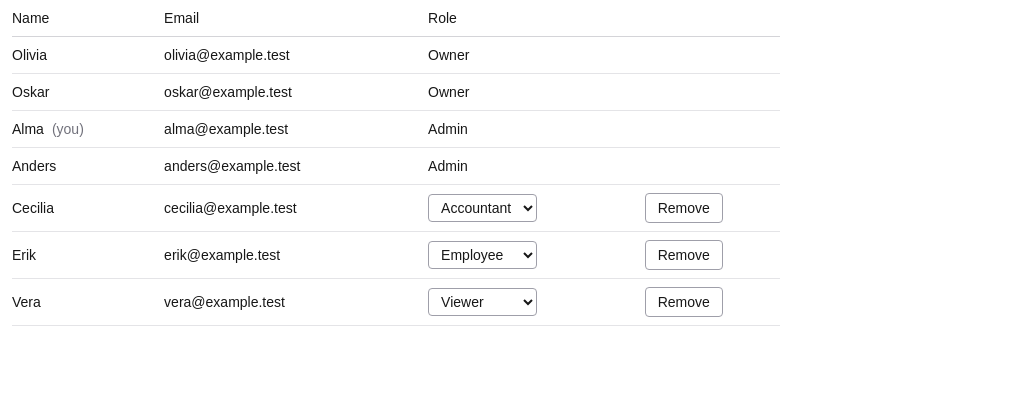
Test: MembersAdmin › changing a role sends only the desired role, then re-reads the server's list
Select "Viewer" in the 2nd dropdown with test id "member-role": x=483, y=255 left=428, top=241, right=537, bottom=269
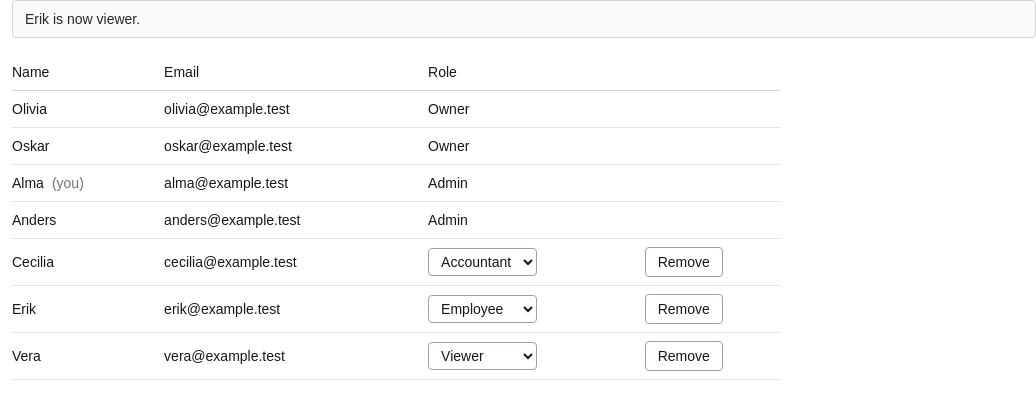
Check: the message with test id "members-message" reads "Erik is now viewer.", box left=25, top=11, right=140, bottom=27
